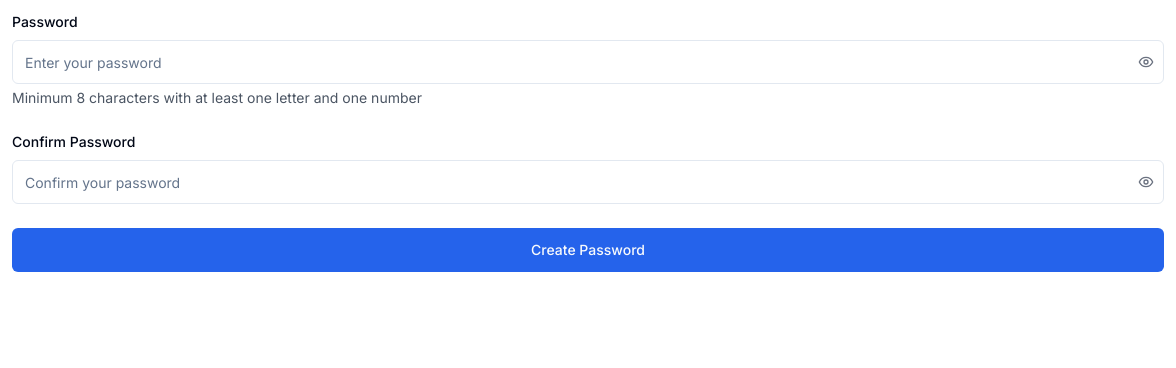
it: PasswordCreationForm › submission › should show network error message when fetch fails
The width and height of the screenshot is (1176, 368).
Type "ValidPass123" into the password field labelled "Password" at [588, 62], box x1=12 y1=40 x2=1164 y2=84
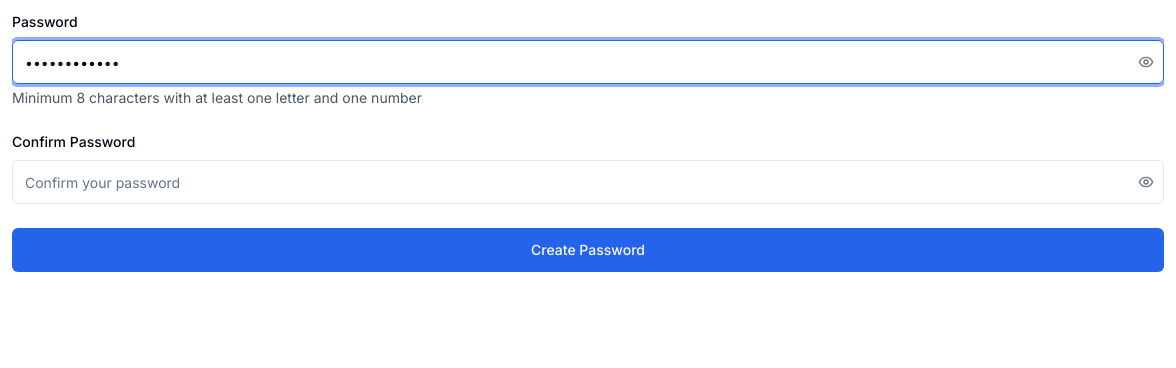
Type "ValidPass123" into the password field labelled "Confirm Password" at [588, 182], box x1=12 y1=160 x2=1164 y2=204
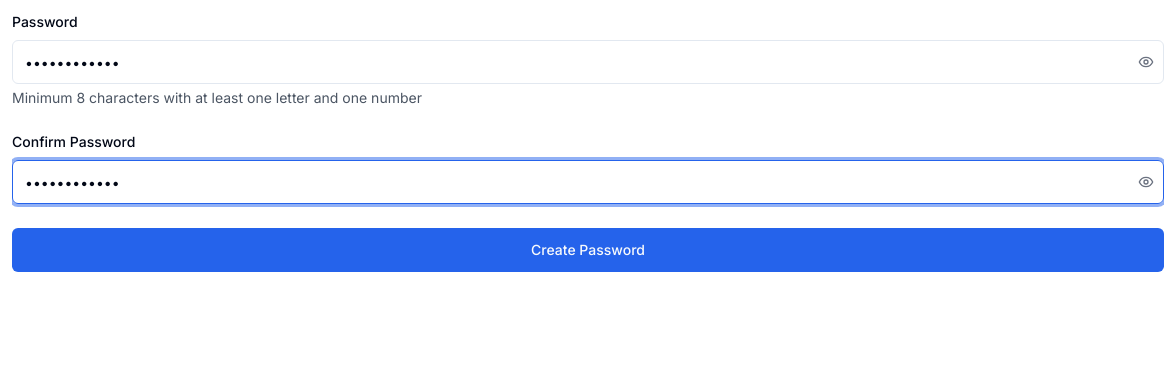
Click the button "Create Password" at [588, 250], box x1=12 y1=228 x2=1164 y2=272
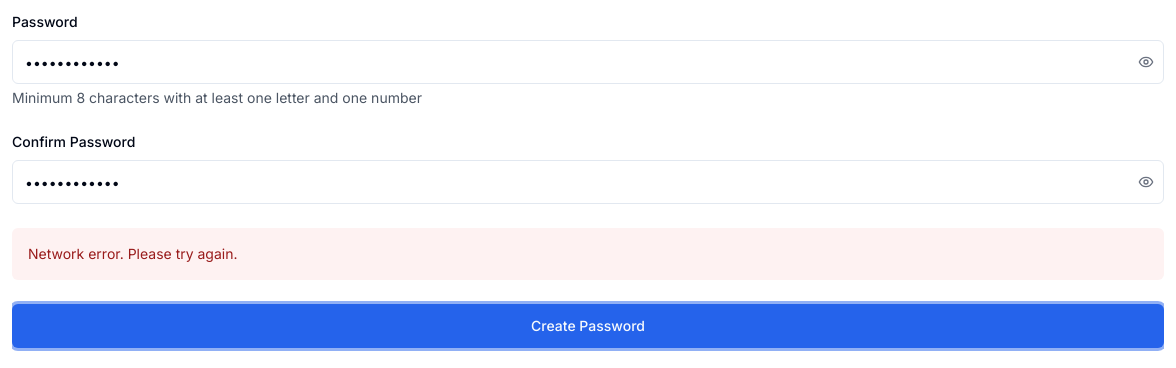
Now the text "Network error. Please try again." is shown, box x1=28 y1=245 x2=238 y2=262
